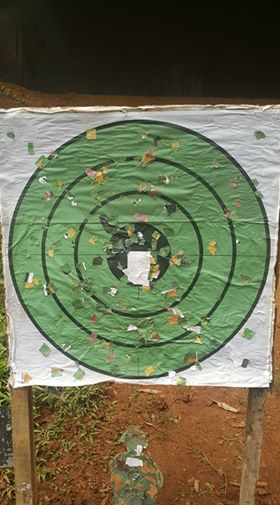Bullet: (135, 198, 141, 203), (63, 233, 68, 238), (132, 201, 136, 205), (238, 240, 240, 244)
